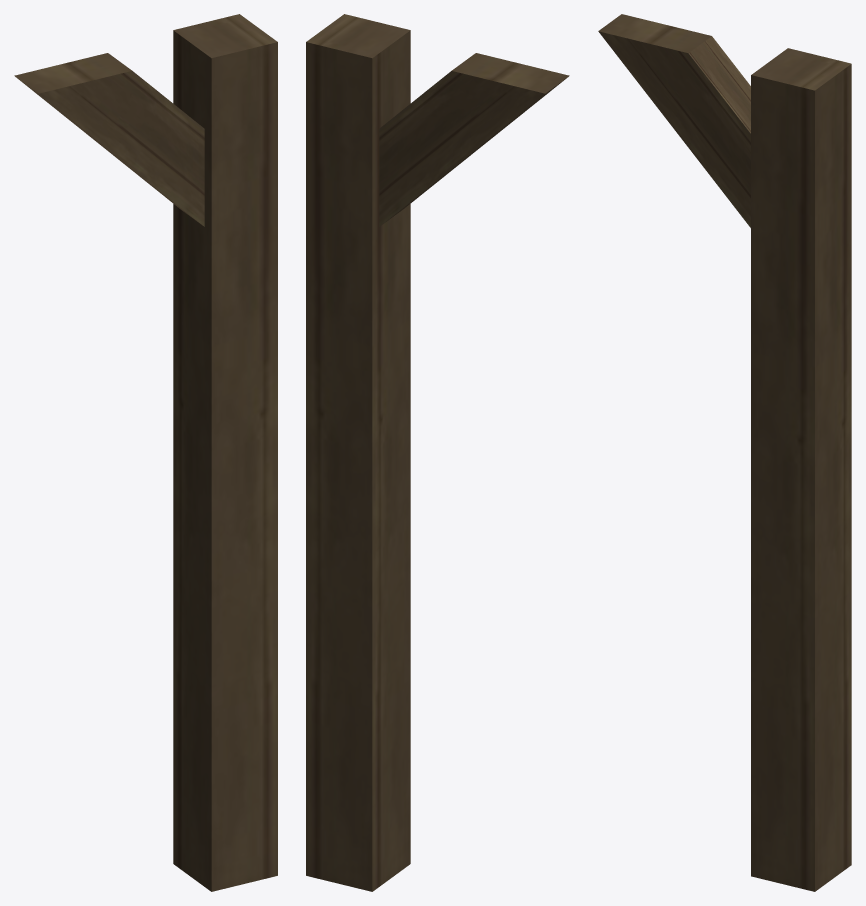
File: column04.glb
The picture shows the model from 3 angles, left to right: view 1: azimuth 30°, elevation 25°; view 2: azimuth 150°, elevation 25°; view 3: azimuth 330°, elevation 25°; orthographic projection. The views are drawn at different scales.
Parts seen in each view (by area): view 1: column04; view 2: column04; view 3: column04.
Part boxes in pixels (x1,y1,x2,y2): column04: (14, 14, 277, 891); column04: (306, 14, 569, 891); column04: (598, 14, 851, 891).
Size of the model in its own units: 0.8753 by 3 by 0.25.
1 material, 1 textured.
